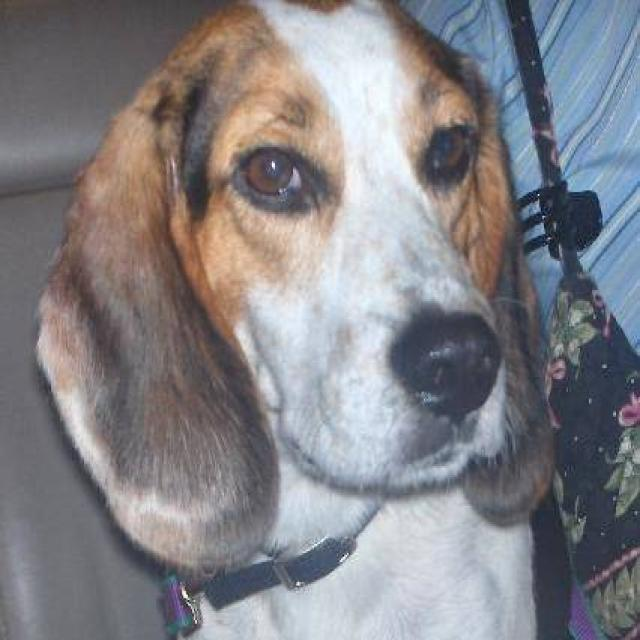dog: (31, 0, 564, 638)
